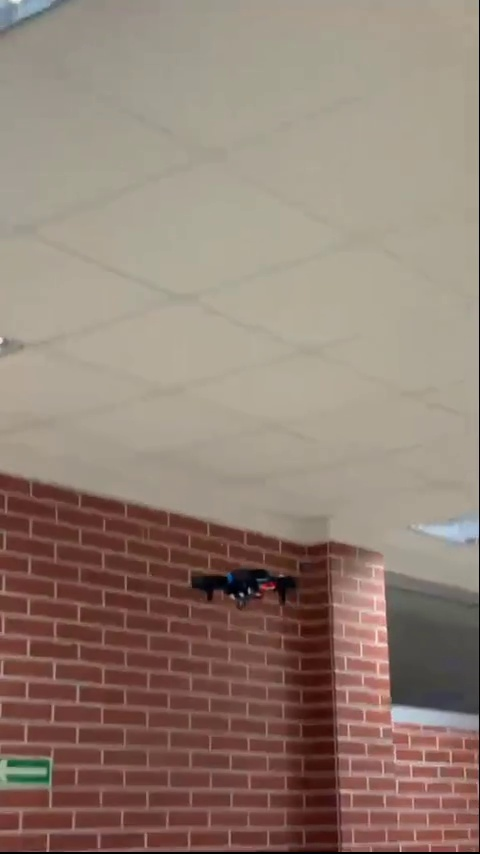drone: (193, 568, 297, 607)
